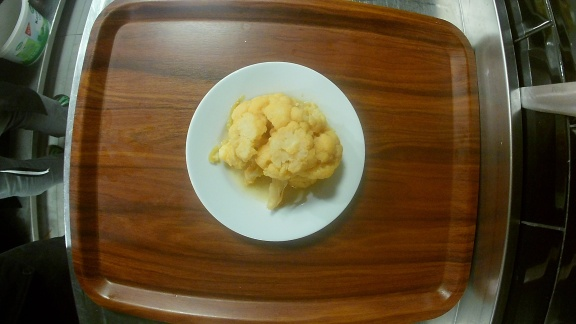karnibahar: (183, 60, 364, 244)
